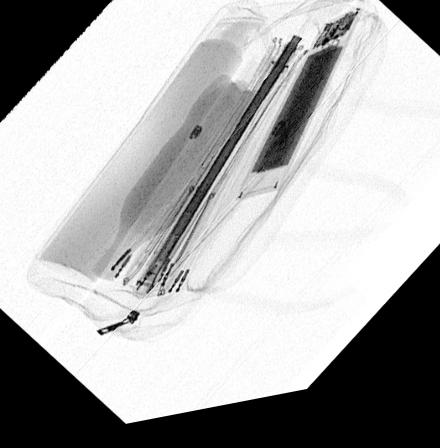Powerbank: (235, 19, 364, 211)
